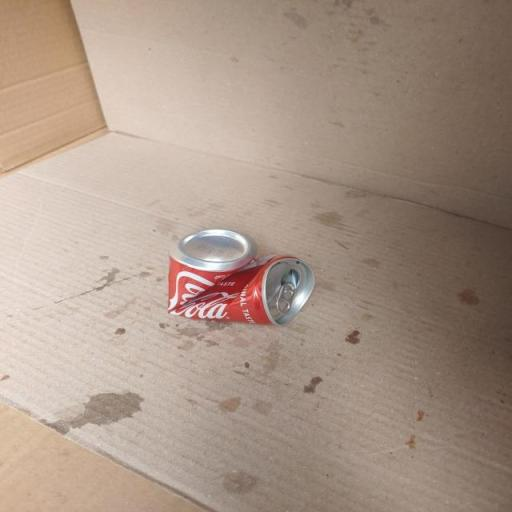metal: (108, 205, 358, 358)
